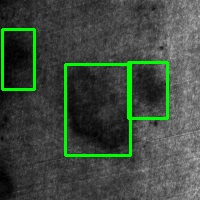patches: (65, 64, 130, 155), (128, 62, 167, 118), (2, 29, 34, 89)
